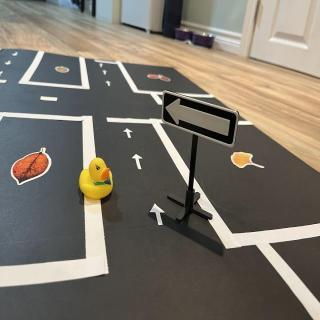duck_regular: (80, 159, 114, 201)
road_oneway: (149, 201, 166, 229), (132, 153, 146, 173), (124, 128, 136, 143), (105, 76, 113, 92), (99, 61, 106, 69), (102, 71, 108, 78)
sign_oneway_left: (163, 95, 240, 149)
